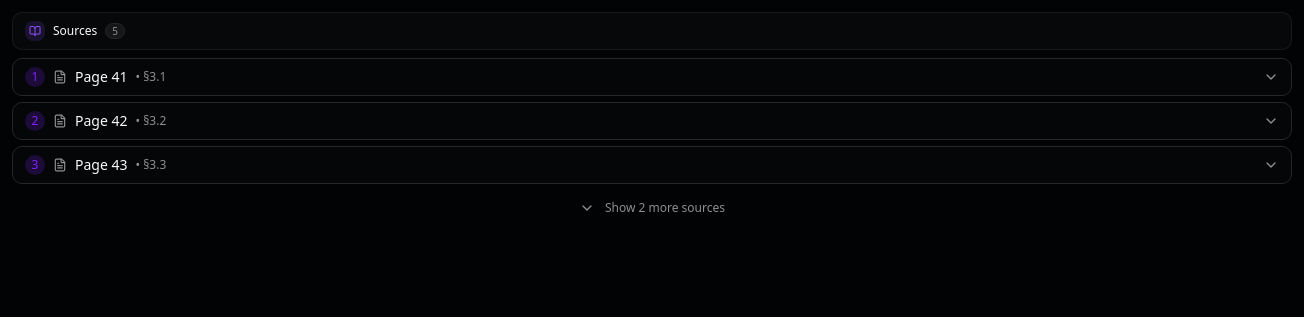
Test: CitationsList › shows only the first 3 by default and a "Show N more" toggle
This screenshot has width=1304, height=317.
Check: the text "Page 41" is shown, box x1=75 y1=67 x2=128 y2=87
Check: the text "Page 42" is shown, box x1=75 y1=111 x2=128 y2=131
Click the button "Show 2 more sources" at (652, 208), box x1=12 y1=192 x2=1292 y2=224
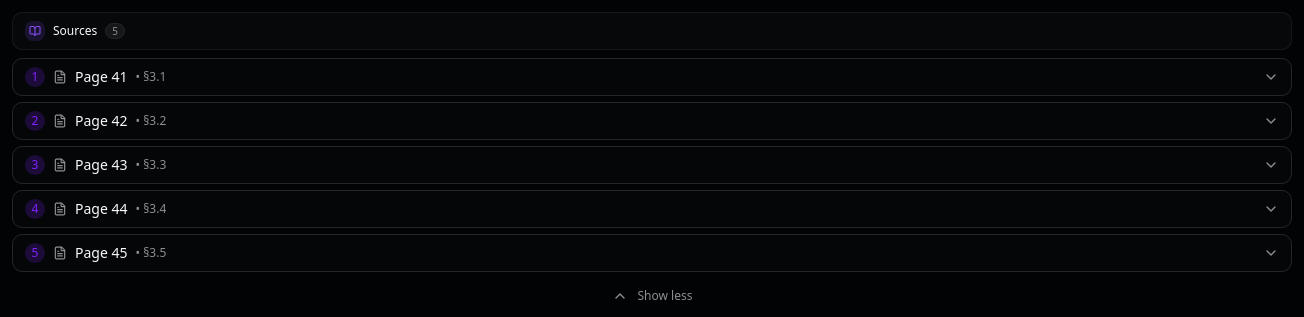
Check: the text "Page 44" is shown, box x1=75 y1=199 x2=128 y2=219
Check: the text "Page 45" is shown, box x1=75 y1=243 x2=128 y2=263
